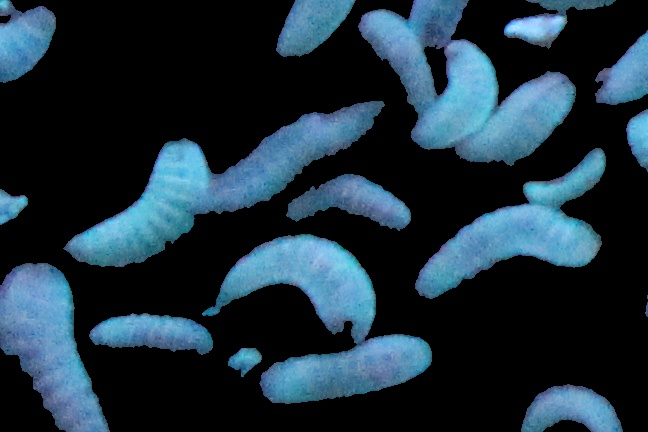larvae: (195, 101, 385, 221), (60, 140, 212, 269), (419, 206, 604, 303), (1, 266, 108, 432), (213, 238, 381, 342), (260, 330, 436, 411), (459, 72, 579, 179), (409, 42, 499, 160), (348, 8, 436, 113), (281, 177, 408, 228), (92, 313, 219, 362), (1, 2, 61, 93), (275, 1, 360, 62), (519, 384, 616, 432), (526, 155, 604, 199)
